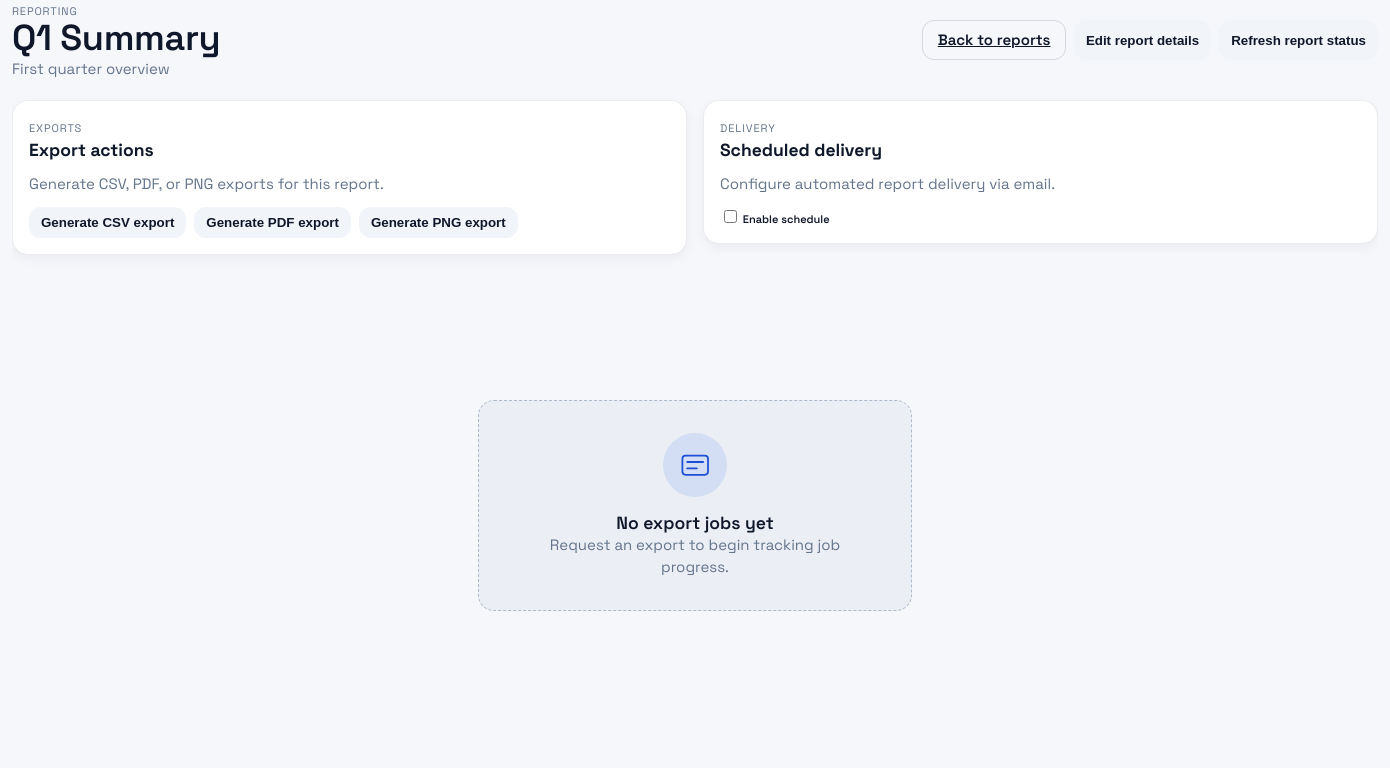
it: ReportDetailPage inline editing › clicking Edit shows input fields
Expected: the heading "Q1 Summary" is shown, [12,22,220,54]
Click the button "Edit report details".
click(1143, 40)  # box [1074,20,1211,60]
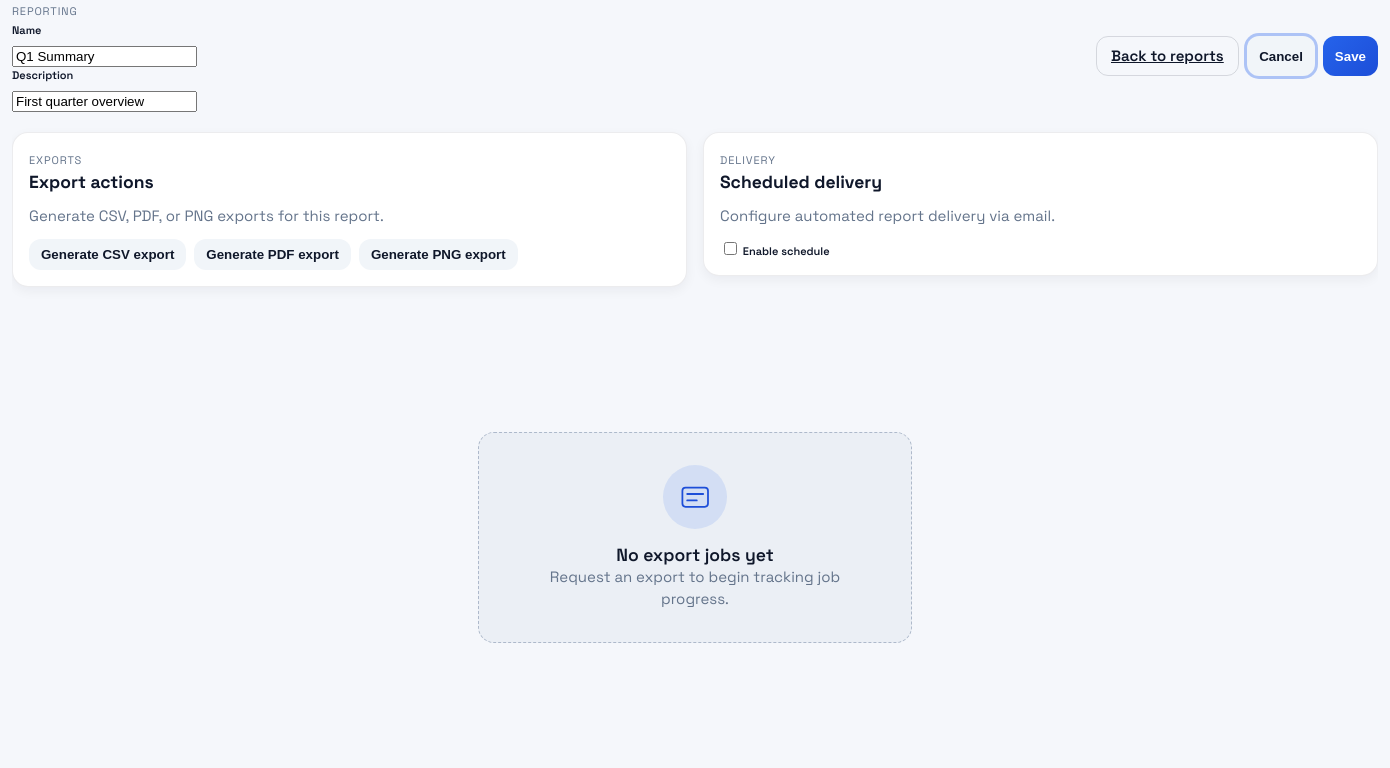
Result: the field labelled "Name" is shown at [12,46,197,67]
Result: the field labelled "Description" is shown at [12,91,197,112]
Result: the button "Save" is shown at [1323,36,1378,76]
